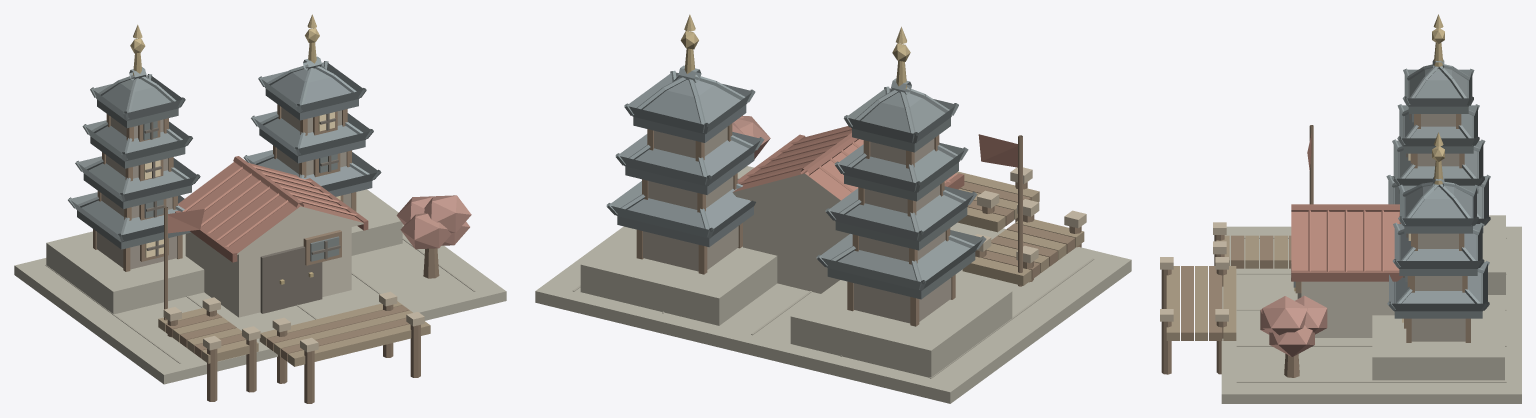
3 views of the same model, side by side, from view 1: azimuth 30°, elevation 25°; view 2: azimuth 150°, elevation 25°; view 3: azimuth 270°, elevation 25° (orthographic). The views are drawn at different scales.
Visible parts, largest first — view 1: S34; view 2: S34; view 3: S34.
Boxes of the visible parts, bbox=[...] form: S34: bbox=[14, 14, 506, 403]; S34: bbox=[535, 14, 1131, 403]; S34: bbox=[1160, 14, 1521, 403].
Size of the model in its own units: 4.1 by 3.29 by 3.73.
